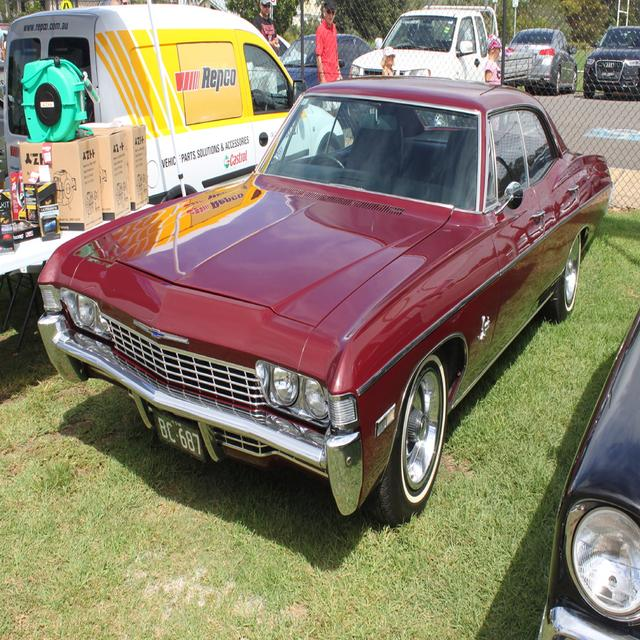Car: (33, 73, 612, 530), (273, 30, 376, 93), (497, 26, 579, 92), (582, 22, 640, 98)
